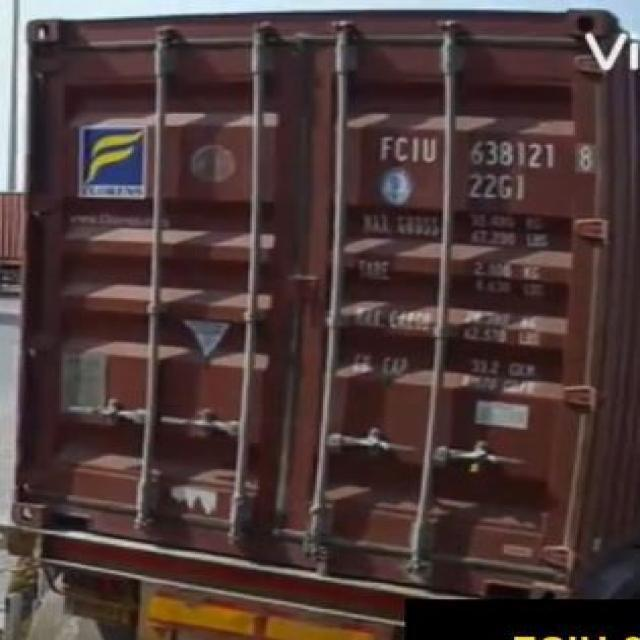container_number_h: (377, 132, 605, 203)
